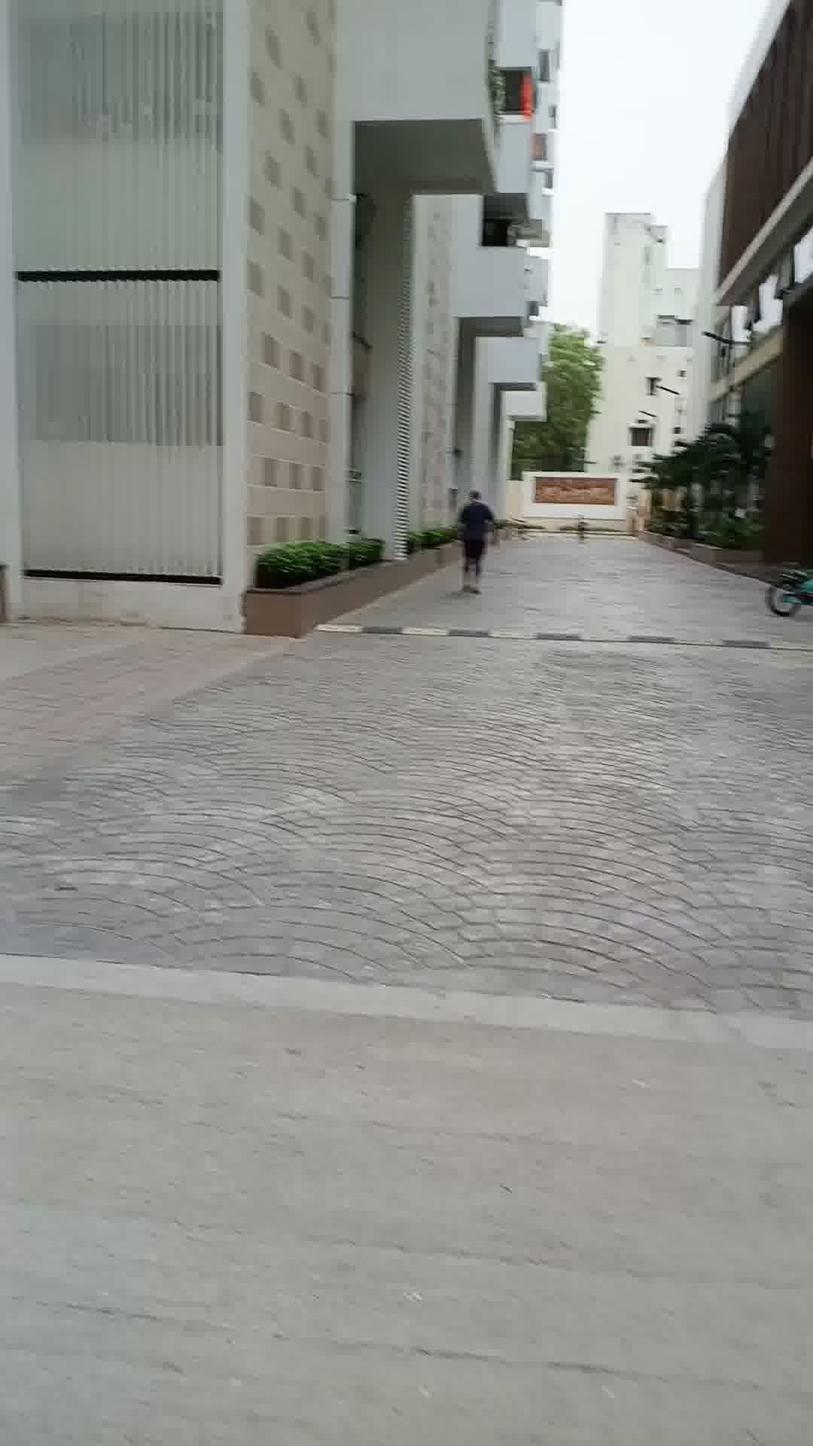bicycle: (757, 552, 813, 643)
person: (447, 467, 518, 615)
tree: (691, 381, 768, 538)
